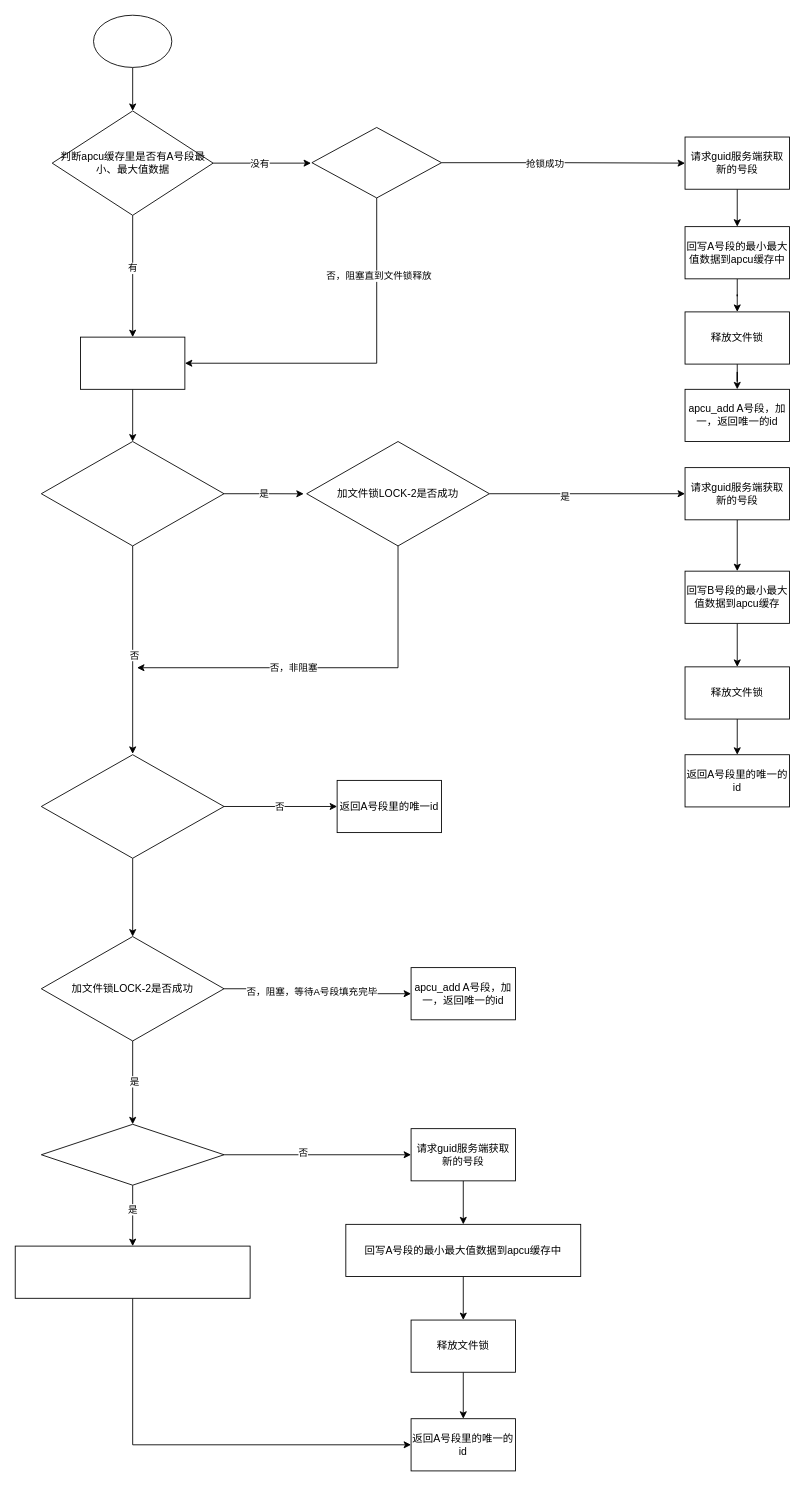
This 805x1487 diagram has some shape labels left out. Here are the shapes that lost their labels. From the top down, the centre of each, then its label:
point (132, 40): 开始
point (376, 162): 加文件锁LOCK-1是否成功
point (132, 362): apcu_add A号段,最小值+1
point (132, 493): 判断A号段最小值是否>=阈值，且B号段没有数据
point (132, 806): 判断A号段最小值是否>=最大值
point (132, 1154): 是否有B号段数据
point (132, 1271): apcu_cas，将A号段最小最大值置为B号段的； apcu_cas，将B号段置为0
